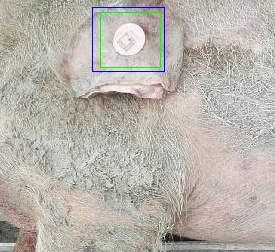text: (100, 12, 160, 67)
